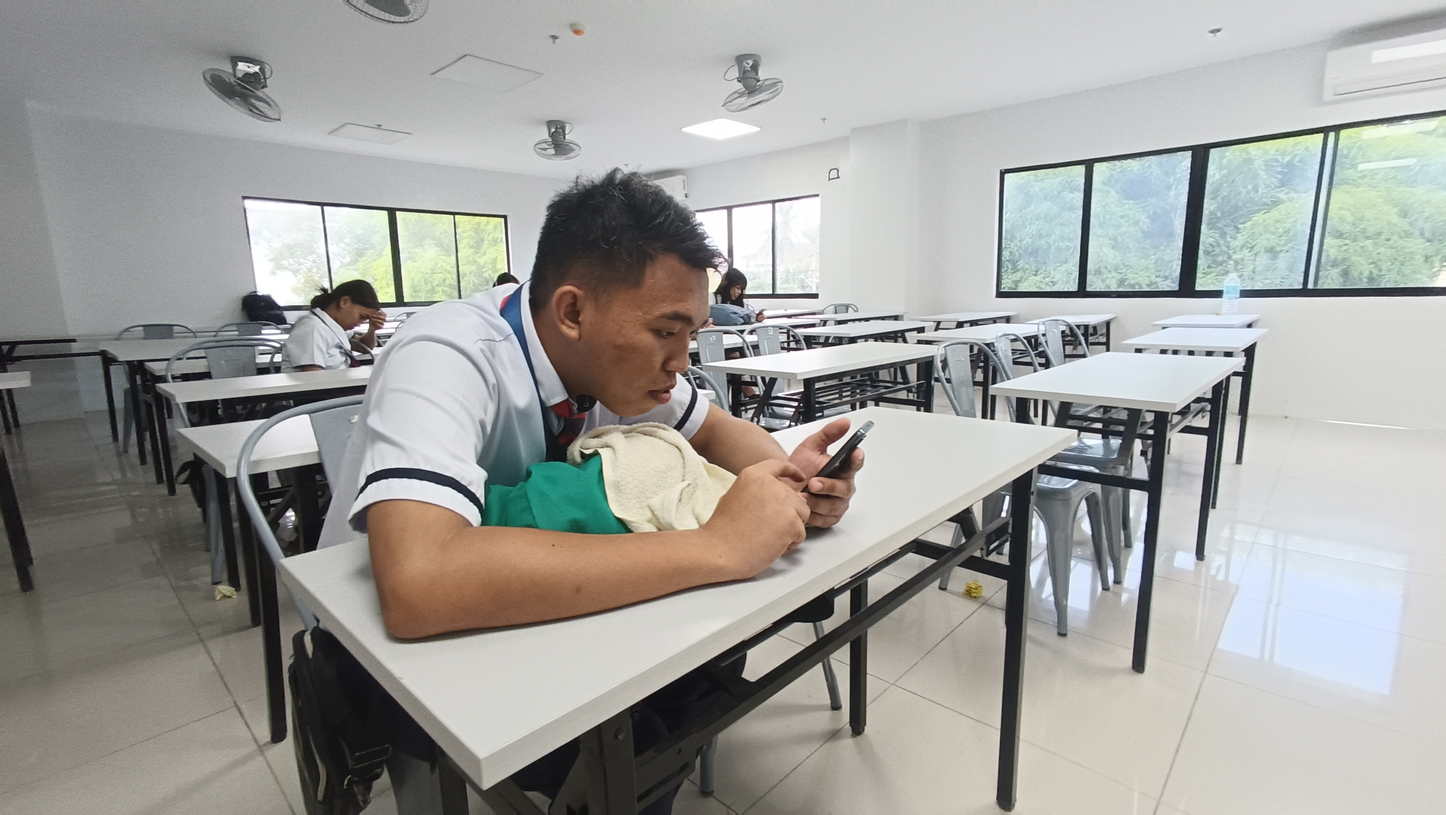with-student: (266, 180, 1086, 815), (155, 277, 388, 405), (706, 263, 820, 333)
